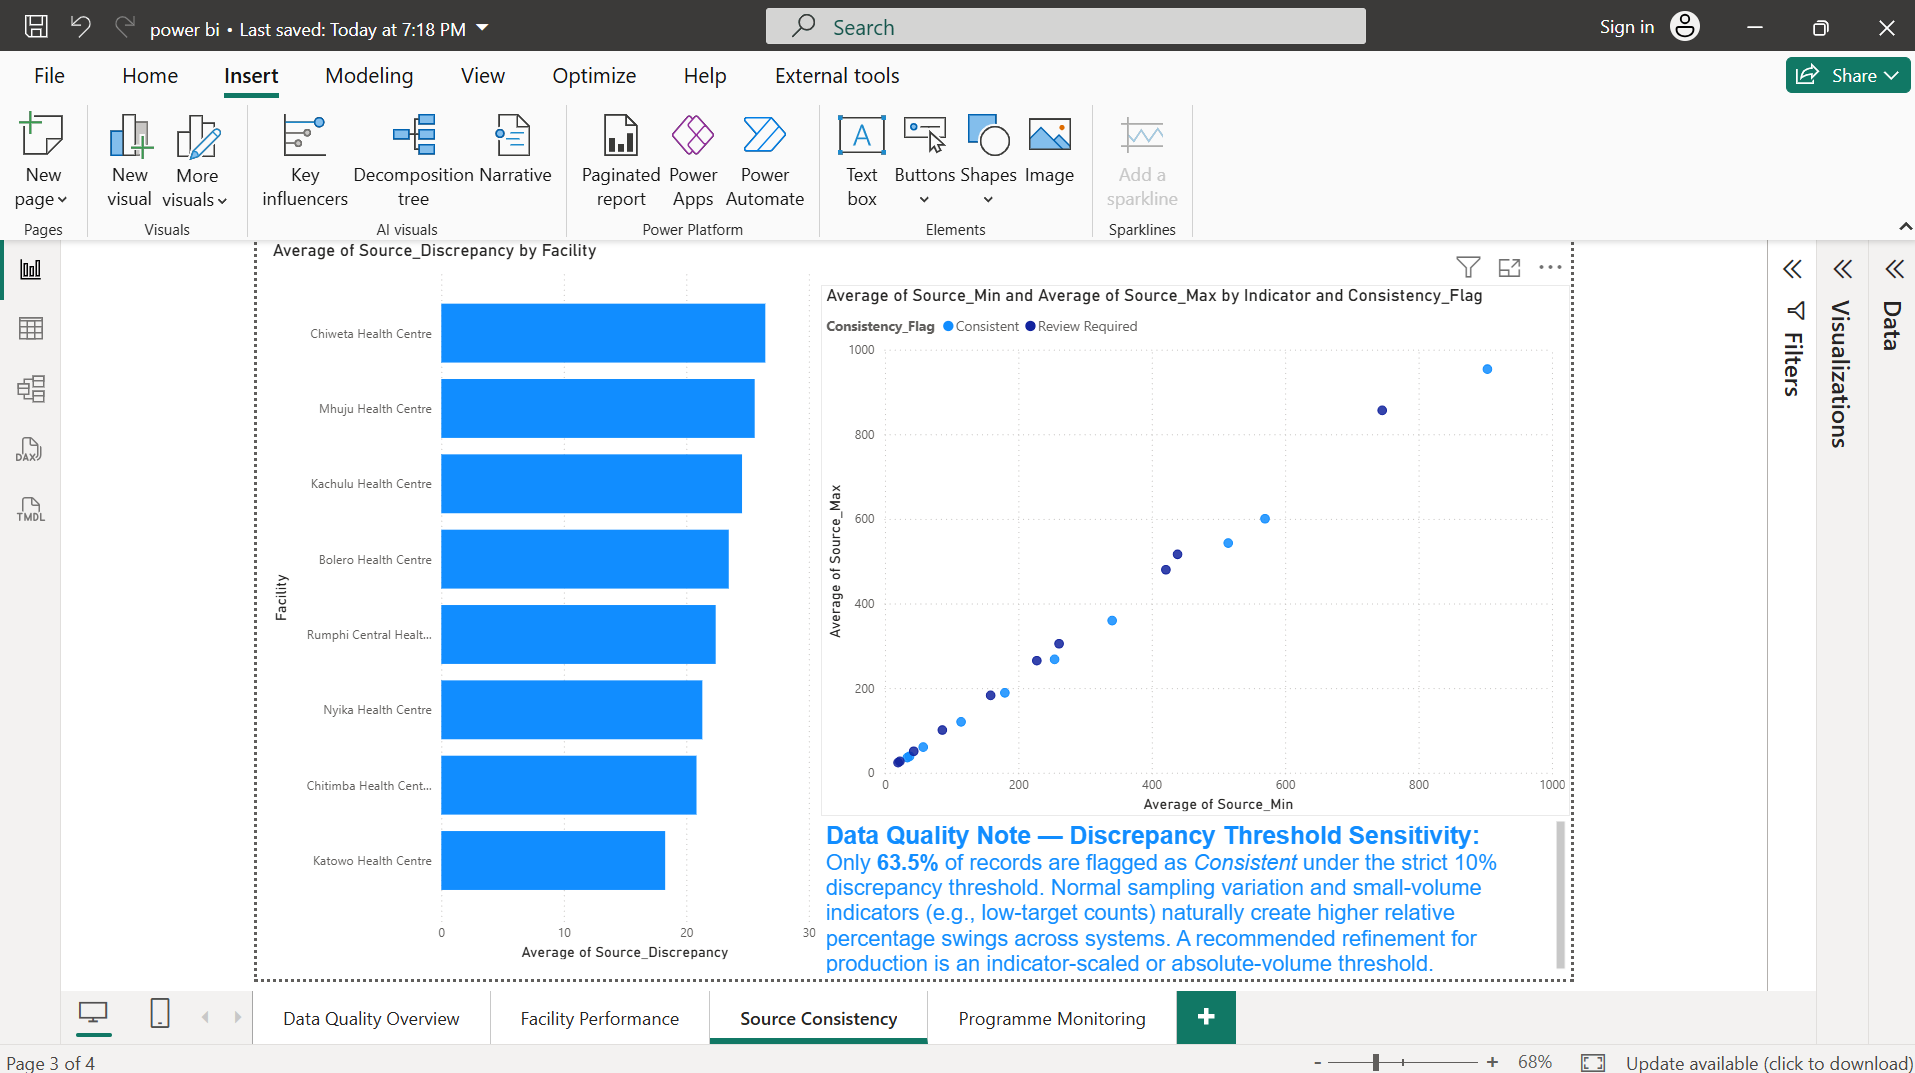

The page's visual inventory and layout, read from the dashboard file:
{"tool":"powerbi","page":{"name":"Source Consistency","canvas":[1280,720],"ordinal":2},"visuals":[{"type":"clusteredBarChart","fields":{"Category":["cleaned_health_facility_data.Facility"],"Y":["Avg(cleaned_health_facility_data.Source_Discrepancy)"]},"box":[10.6,0,539.1,705.6],"z":0},{"type":"scatterChart","fields":{"X":["Avg(cleaned_health_facility_data.Source_Min)"],"Y":["Avg(cleaned_health_facility_data.Source_Max)"],"Category":["cleaned_health_facility_data.Indicator"],"Series":["cleaned_health_facility_data.Consistency_Flag"]},"box":[549.7,43.9,729.8,517.9],"z":1},{"type":"textbox","box":[549.7,561.8,729.8,157.5],"z":2}]}

Visuals, with their boxes on the page's 1280x720 design canvas (x1, y1, x2, y2). These are canvas units, not pixel positions in the 1915x1073 screenshot, which may show the page scaled, cropped or inside an application window:
clusteredBarChart - cleaned_health_facility_data.Facility x Avg(cleaned_health_facility_data.Source_Discrepancy): select_region(11, 0, 550, 706)
scatterChart - Avg(cleaned_health_facility_data.Source_Min) x Avg(cleaned_health_facility_data.Source_Max): select_region(550, 44, 1280, 562)
textbox: select_region(550, 562, 1280, 719)
